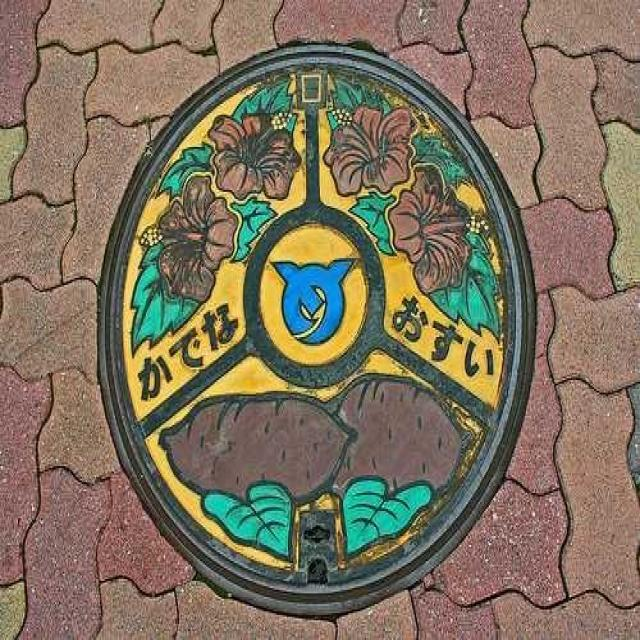manhole: (96, 41, 539, 622)
